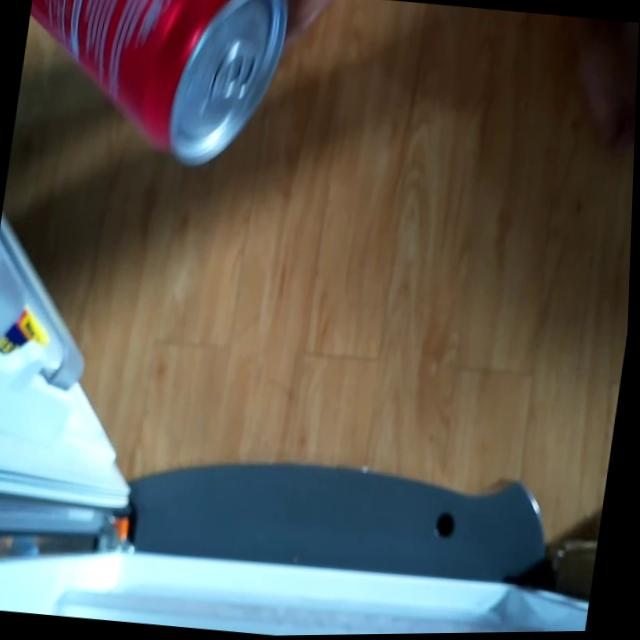coke: (15, 0, 295, 179)
